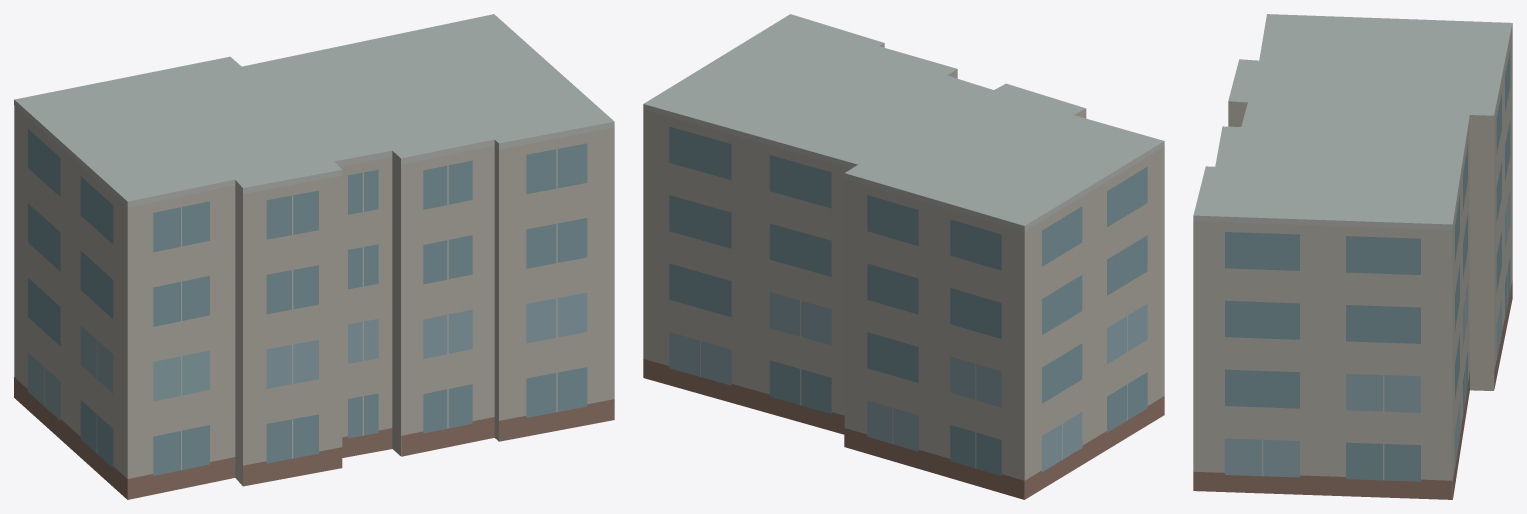
File: survey-upis-32601444.glb
3 views of the same model, side by side, from view 1: azimuth 30°, elevation 25°; view 2: azimuth 150°, elevation 25°; view 3: azimuth 270°, elevation 25° (orthographic). The views are drawn at different scales.
Parts seen in each view (by area): view 1: survey-upis-32601444.tmp; view 2: survey-upis-32601444.tmp; view 3: survey-upis-32601444.tmp.
Boxes of the visible parts, x1,y1,x2,y2 form: survey-upis-32601444.tmp: [14, 14, 614, 499]; survey-upis-32601444.tmp: [643, 14, 1164, 499]; survey-upis-32601444.tmp: [1193, 14, 1512, 499].
Size of the model in its own units: 20.01 by 12.2 by 12.82.
